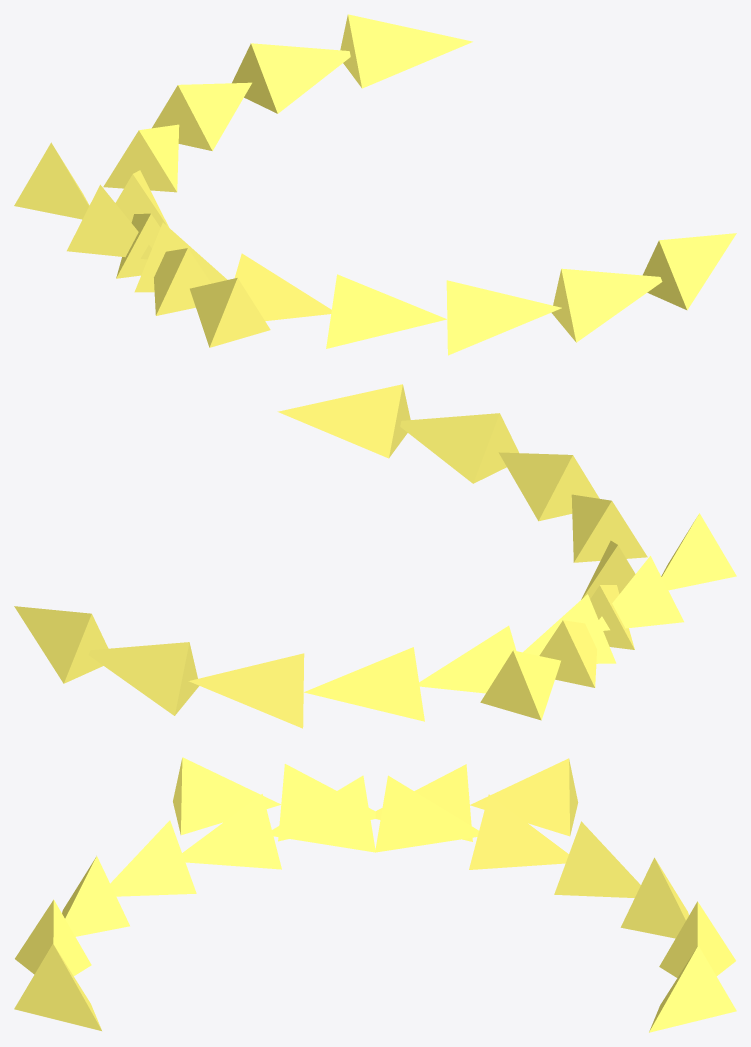
The model's file is laurel.fbx.
3 renders of one model, top to bottom at view 1: azimuth 30°, elevation 25°; view 2: azimuth 150°, elevation 25°; view 3: azimuth 270°, elevation 25°, orthographic. The views are drawn at different scales.
Parts seen in each view (by area): view 1: laurel; view 2: laurel; view 3: laurel.
Part boxes in pixels (left/top/right/bottom): laurel: left=14, top=14, right=736, bottom=355; laurel: left=14, top=384, right=736, bottom=728; laurel: left=14, top=757, right=736, bottom=1032.
Bounding box in the file's own units: 10.01 × 1.48 × 12.23.
